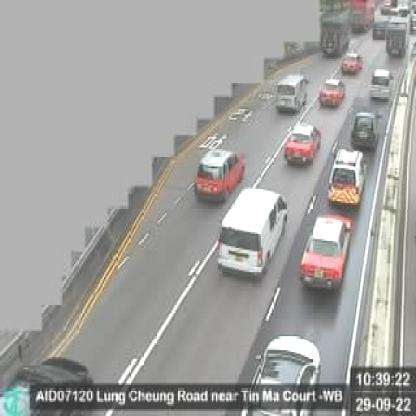Car: (227, 328, 325, 414), (214, 187, 286, 279), (292, 210, 354, 291), (188, 148, 246, 200), (324, 147, 369, 208), (278, 118, 324, 168), (270, 71, 310, 113), (347, 106, 381, 152), (313, 73, 347, 109), (366, 66, 394, 100), (340, 50, 366, 71)
Truck: (320, 0, 372, 61), (385, 5, 409, 59)
